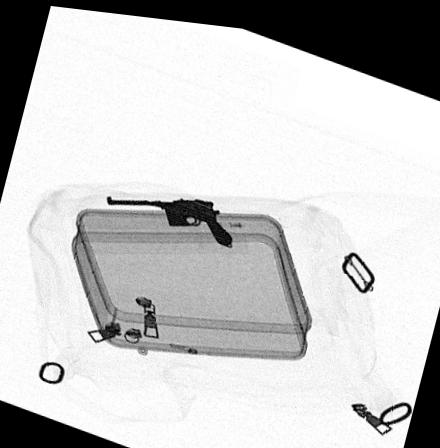Gun: (103, 188, 233, 240)
